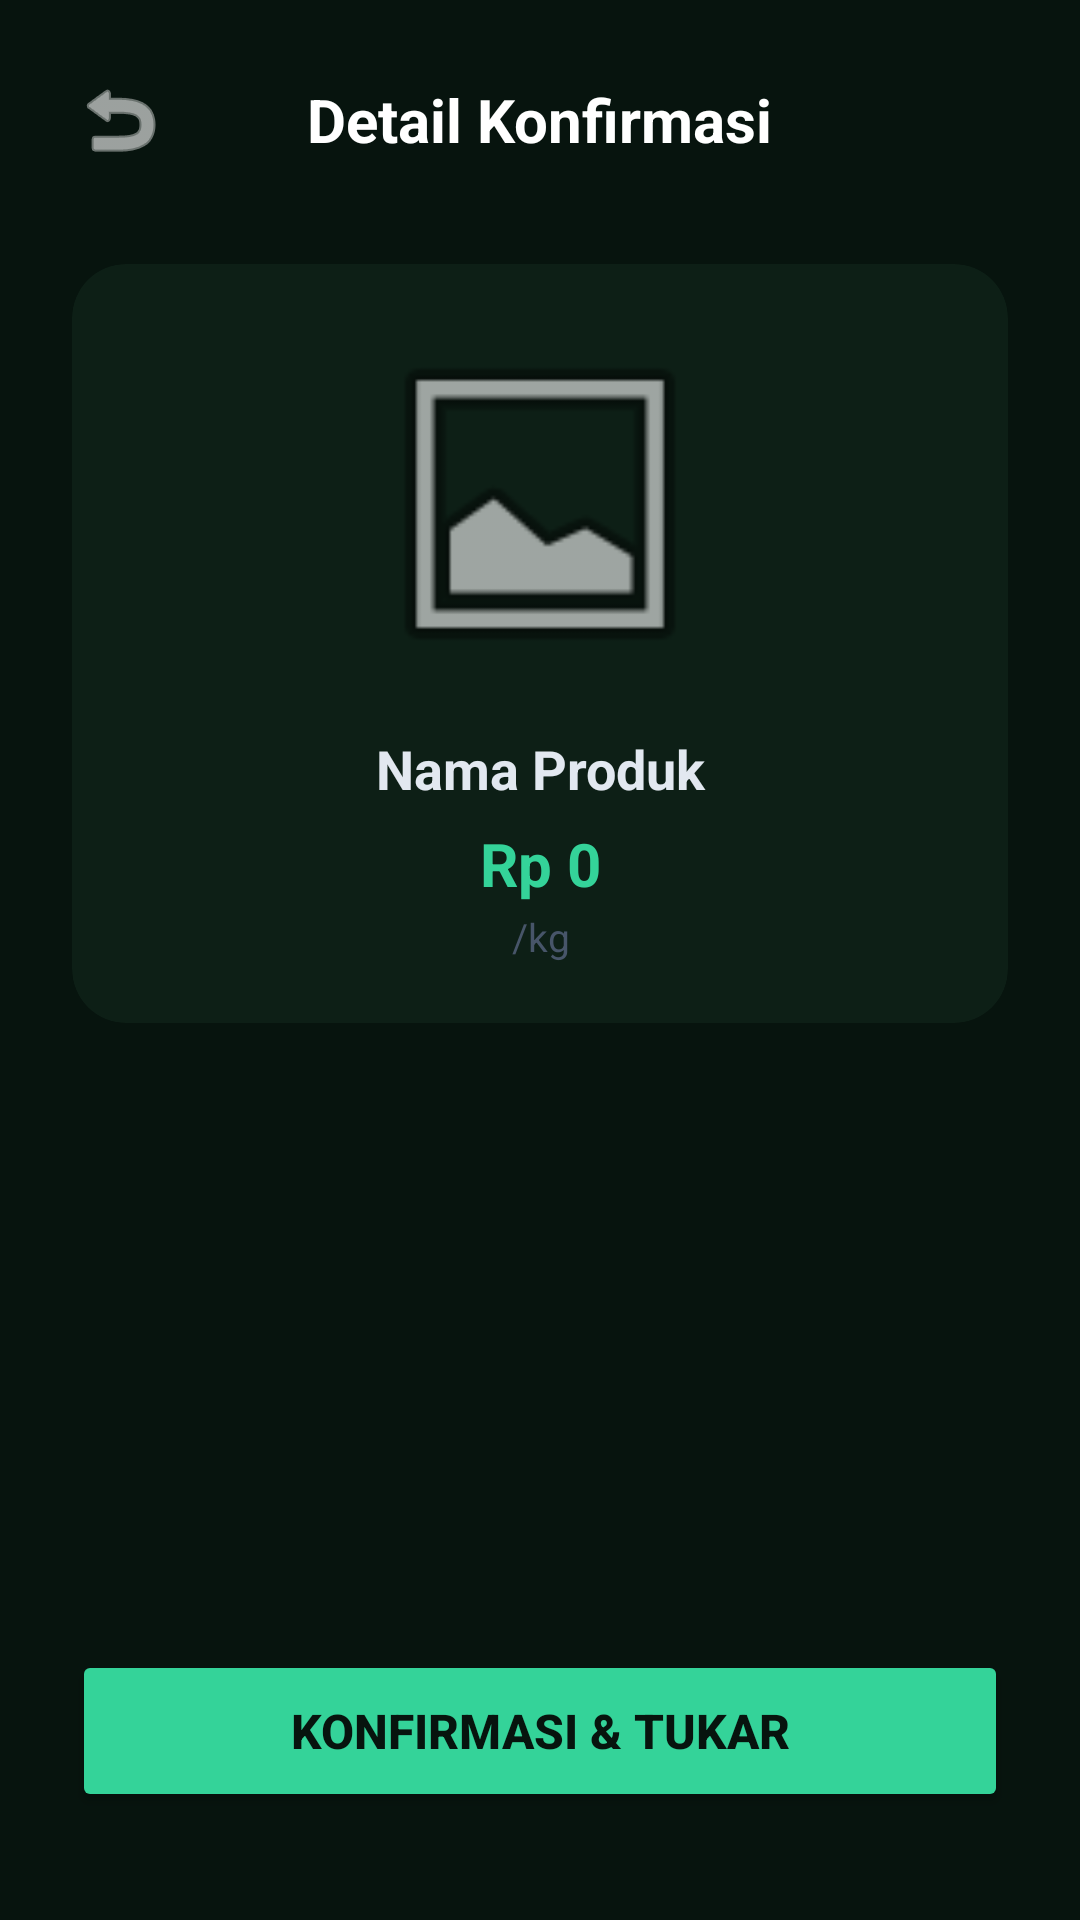

Point at icon controls on the screen. Image size 1080px x 1920px, points as (x=x, y=y).
gallery: (x=540, y=504)
revert: (x=121, y=120)
